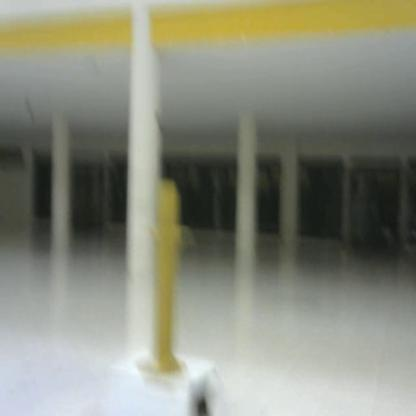pole: (135, 169, 197, 382)
